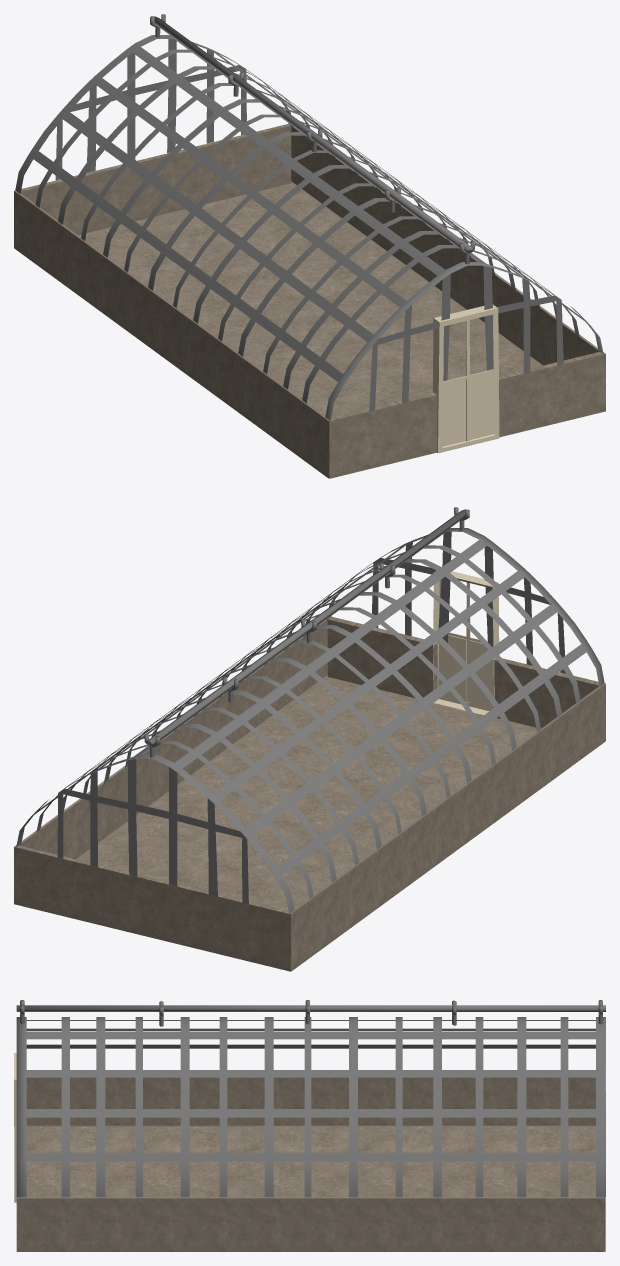
File: Green House.fbx
The picture shows the model from 3 angles, top to bottom: view 1: azimuth 30°, elevation 25°; view 2: azimuth 150°, elevation 25°; view 3: azimuth 270°, elevation 25°; orthographic projection. The views are drawn at different scales.
Visible parts, largest first — view 1: Green House; view 2: Green House; view 3: Green House.
Boxes of the visible parts, x1,y1,x2,y2 form: Green House: (14,14,605,478); Green House: (14,507,605,971); Green House: (14,1000,605,1251).
Size of the model in its own units: 1020 by 704 by 2022.
1 material, 1 textured.
